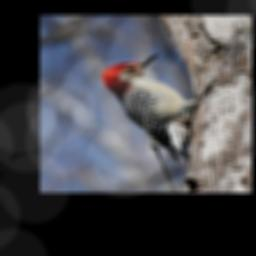Woodpecker: (97, 51, 228, 167)
